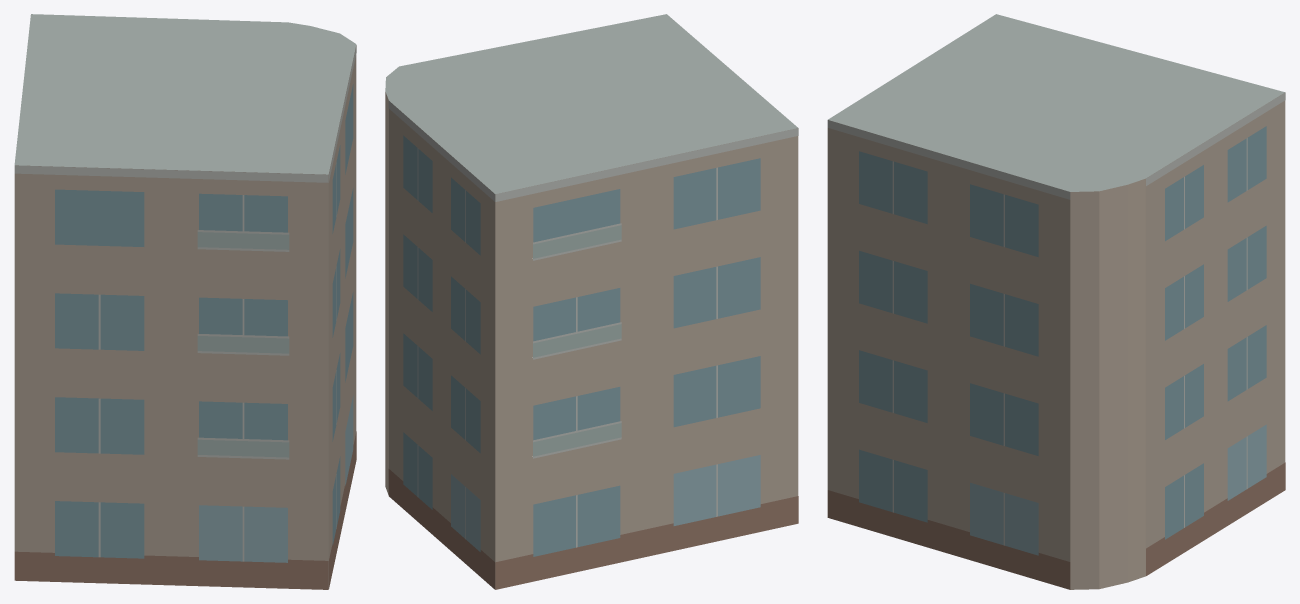
The model's file is survey-upis-32650200.glb.
3 renders of one model, left to right at view 1: azimuth 30°, elevation 25°; view 2: azimuth 150°, elevation 25°; view 3: azimuth 270°, elevation 25°, orthographic. The views are drawn at different scales.
Parts seen in each view (by area): view 1: survey-upis-32650200.tmp; view 2: survey-upis-32650200.tmp; view 3: survey-upis-32650200.tmp.
Boxes of the visible parts, <box> form: survey-upis-32650200.tmp: <box>14,14,356,589</box>; survey-upis-32650200.tmp: <box>385,14,798,589</box>; survey-upis-32650200.tmp: <box>827,14,1285,589</box>.
Size of the model in its own units: 11.71 by 12.2 by 12.73.
